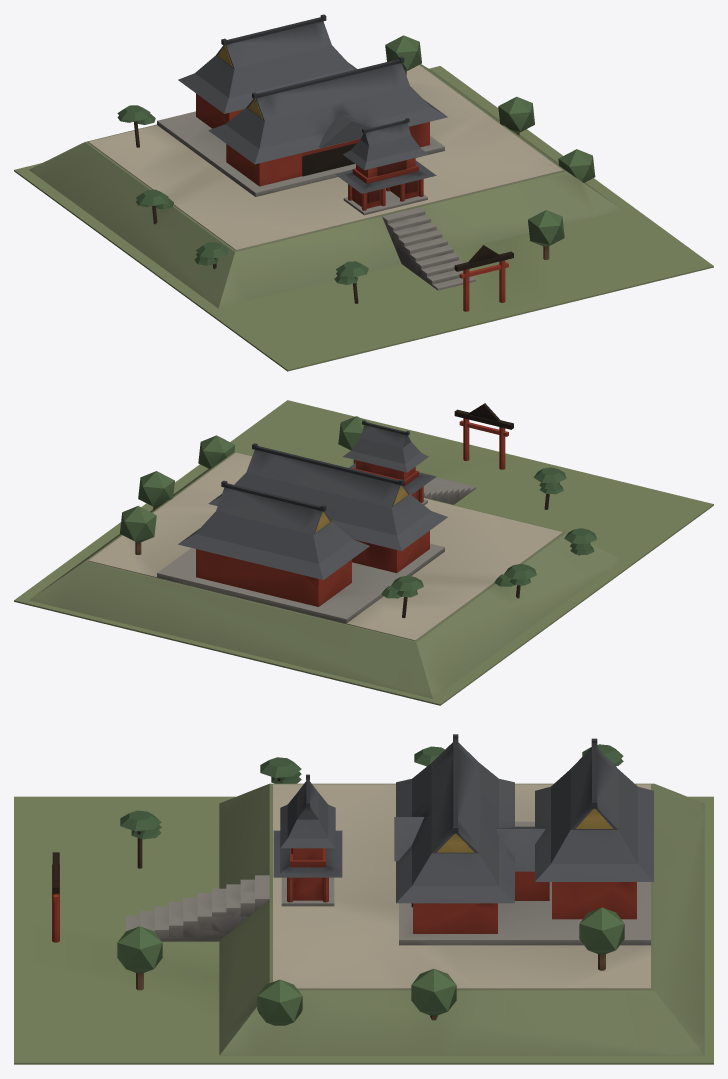
File: hie-shrine.glb
3 renders of one model, top to bottom at view 1: azimuth 30°, elevation 25°; view 2: azimuth 150°, elevation 25°; view 3: azimuth 270°, elevation 25°, orthographic. The views are drawn at different scales.
Visible parts, largest first — view 1: p0_hill, p2_shrine, p1_Sanno torii; view 2: p0_hill, p2_shrine, p1_Sanno torii; view 3: p0_hill, p2_shrine, p1_Sanno torii.
Part boxes in pixels (x1=…): p0_hill: x1=14, y1=64, x2=713, y2=371; p2_shrine: x1=117, y1=14, x2=595, y2=303; p1_Sanno torii: x1=335, y1=118, x2=513, y2=311; p0_hill: x1=14, y1=400, x2=713, y2=705; p2_shrine: x1=120, y1=416, x2=596, y2=623; p1_Sanno torii: x1=343, y1=403, x2=513, y2=505; p0_hill: x1=14, y1=783, x2=713, y2=1064; p2_shrine: x1=117, y1=734, x2=653, y2=1025; p1_Sanno torii: x1=52, y1=774, x2=342, y2=942.
Bounding box in the file's own units: 90 × 25.37 × 100.
